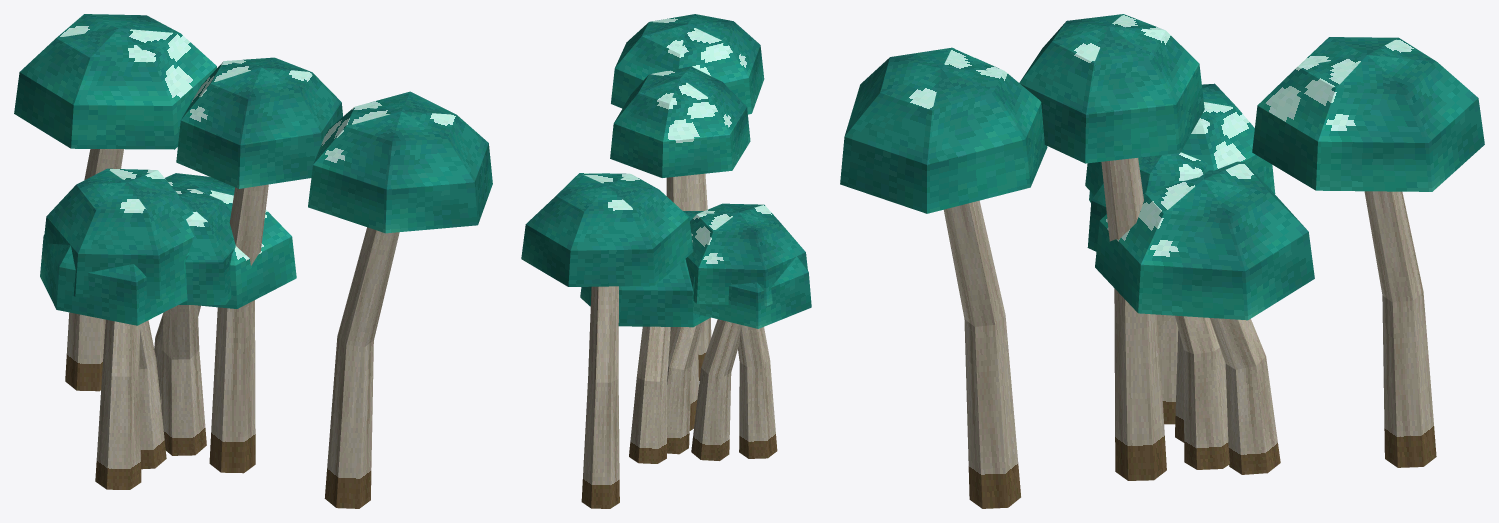
Rendered from MUSH_Glow_01.fbx.
3 views of the same model, side by side, from view 1: azimuth 30°, elevation 25°; view 2: azimuth 150°, elevation 25°; view 3: azimuth 270°, elevation 25° (orthographic). The views are drawn at different scales.
Visible parts, largest first — view 1: MUSH_Glow_01; view 2: MUSH_Glow_01; view 3: MUSH_Glow_01.
Part boxes in pixels (<box>): MUSH_Glow_01: <box>14,14,492,508</box>; MUSH_Glow_01: <box>521,14,811,508</box>; MUSH_Glow_01: <box>840,14,1484,508</box>.
Size of the model in its own units: 0.1039 by 0.1212 by 0.1559.
2 materials, 2 textured.
